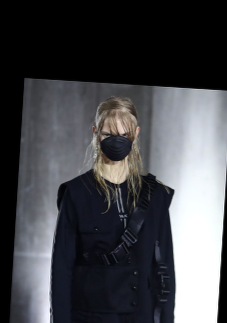with_mask: (97, 127, 136, 161)
